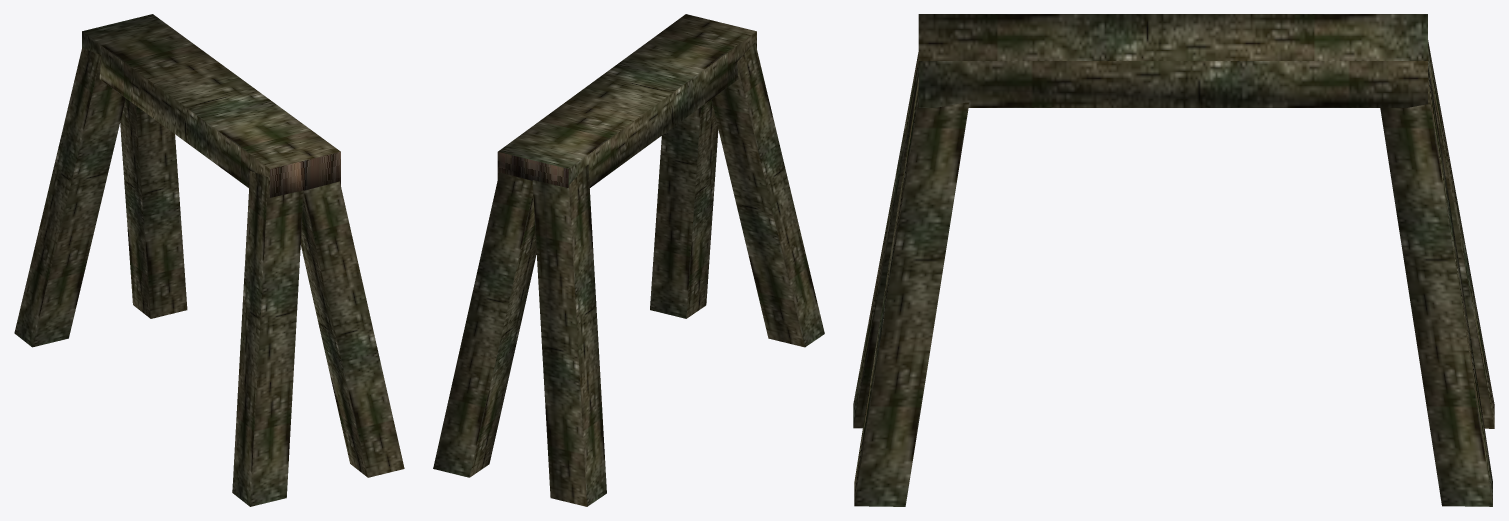
The model's file is ADDON_MISC_HOLZBOCK.glb.
3 views of the same model, side by side, from view 1: azimuth 30°, elevation 25°; view 2: azimuth 150°, elevation 25°; view 3: azimuth 270°, elevation 25° (orthographic). The views are drawn at different scales.
Visible parts, largest first — view 1: Mesh; view 2: Mesh; view 3: Mesh.
Boxes of the visible parts, box(x1,y1,x2,y2) form: Mesh: box(14, 14, 404, 506); Mesh: box(433, 14, 824, 506); Mesh: box(853, 14, 1494, 506).
Size of the model in its own units: 0.8929 by 1.7 by 2.35.
Materials: 2 (2 with a texture image).
